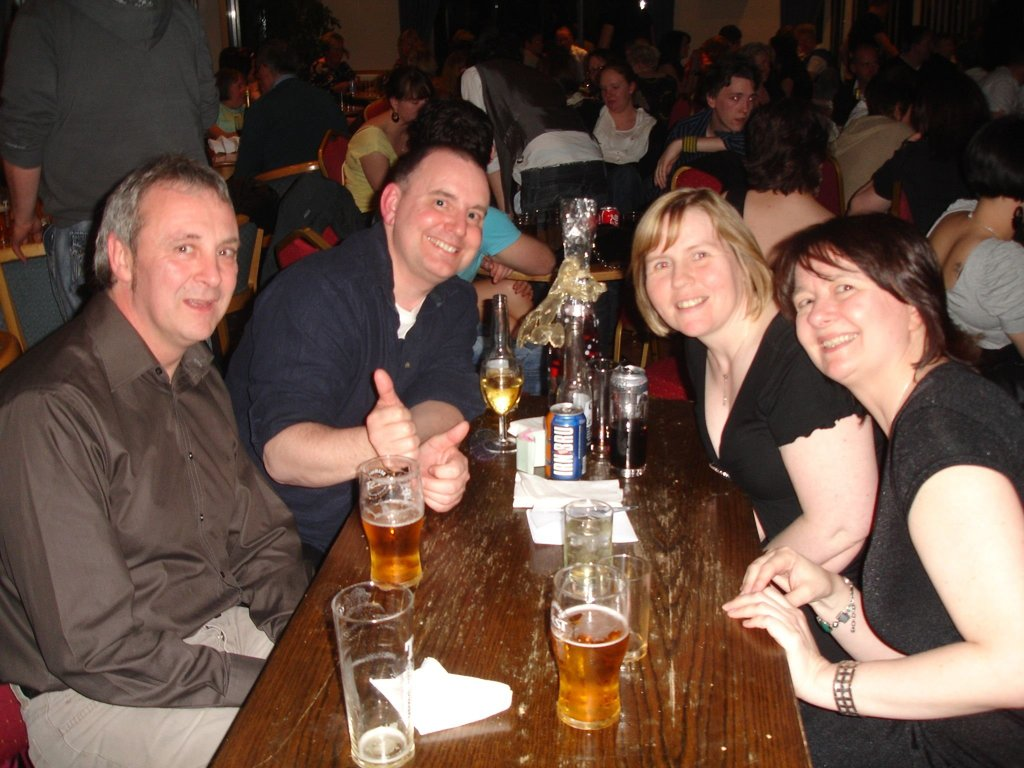Beer: (548, 603, 629, 730), (361, 496, 422, 591), (478, 368, 522, 417)
